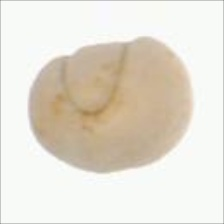L5: (62, 40, 131, 117), (103, 159, 160, 174)
L6: (23, 35, 196, 181)
